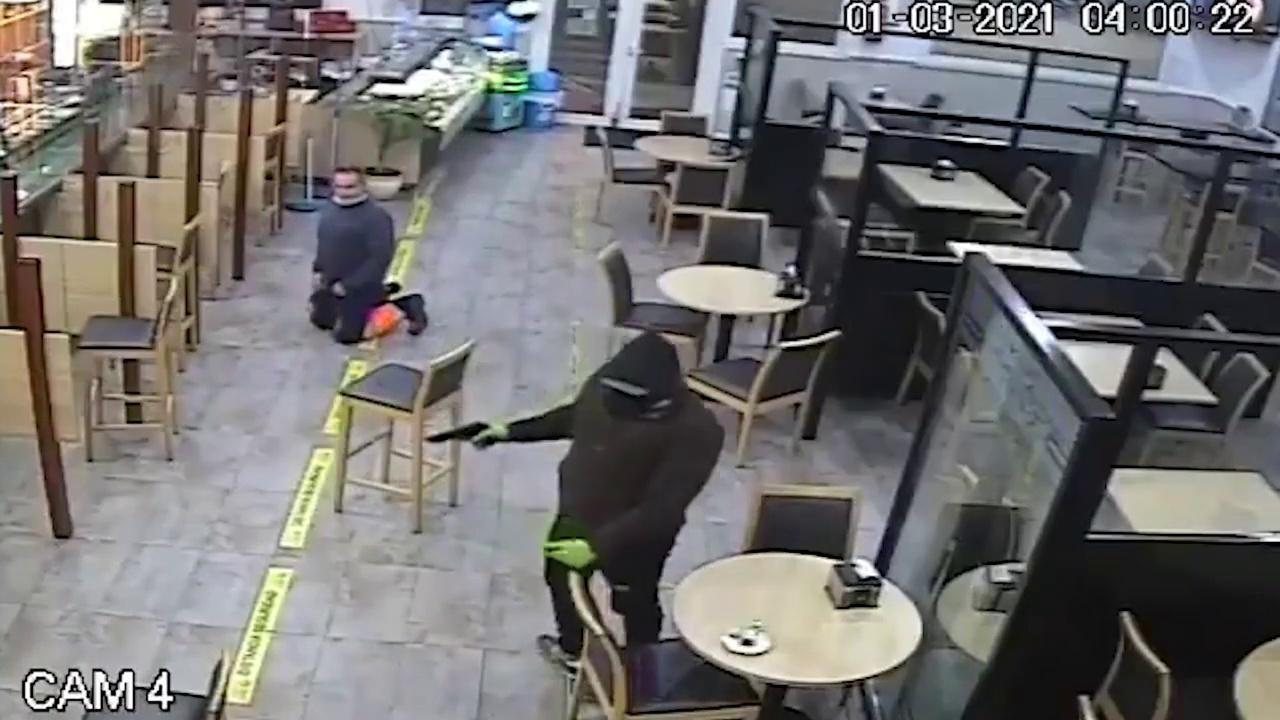Guns: (412, 410, 533, 470)
